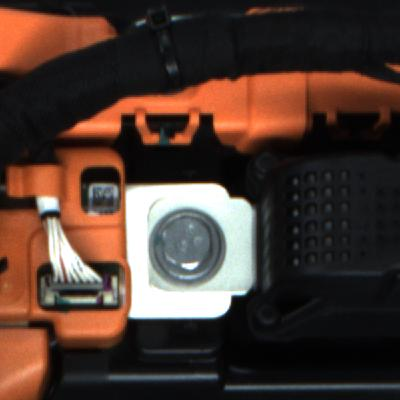nut_b: (140, 197, 255, 291)
